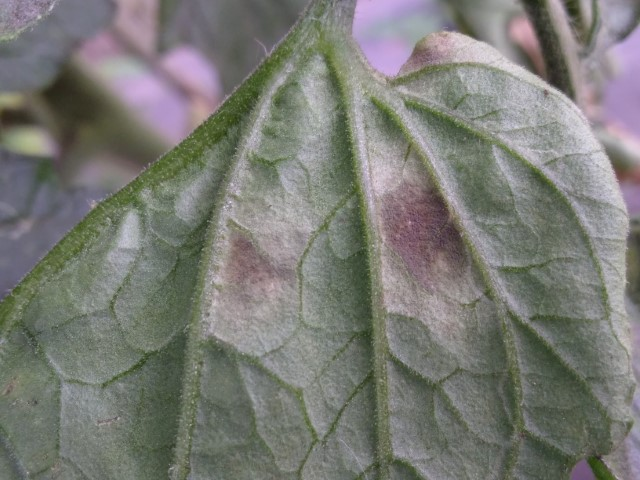negra: (372, 182, 479, 299), (210, 226, 295, 304)
